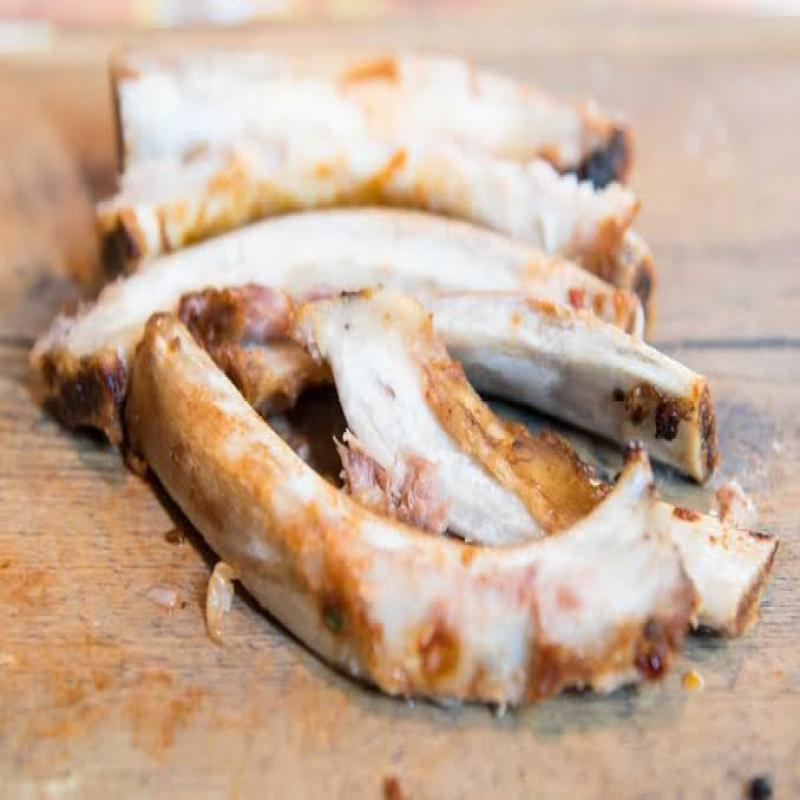left-over food: (120, 315, 701, 710), (35, 207, 720, 487), (96, 53, 657, 320), (296, 292, 609, 545), (176, 287, 328, 418), (670, 490, 781, 646)
